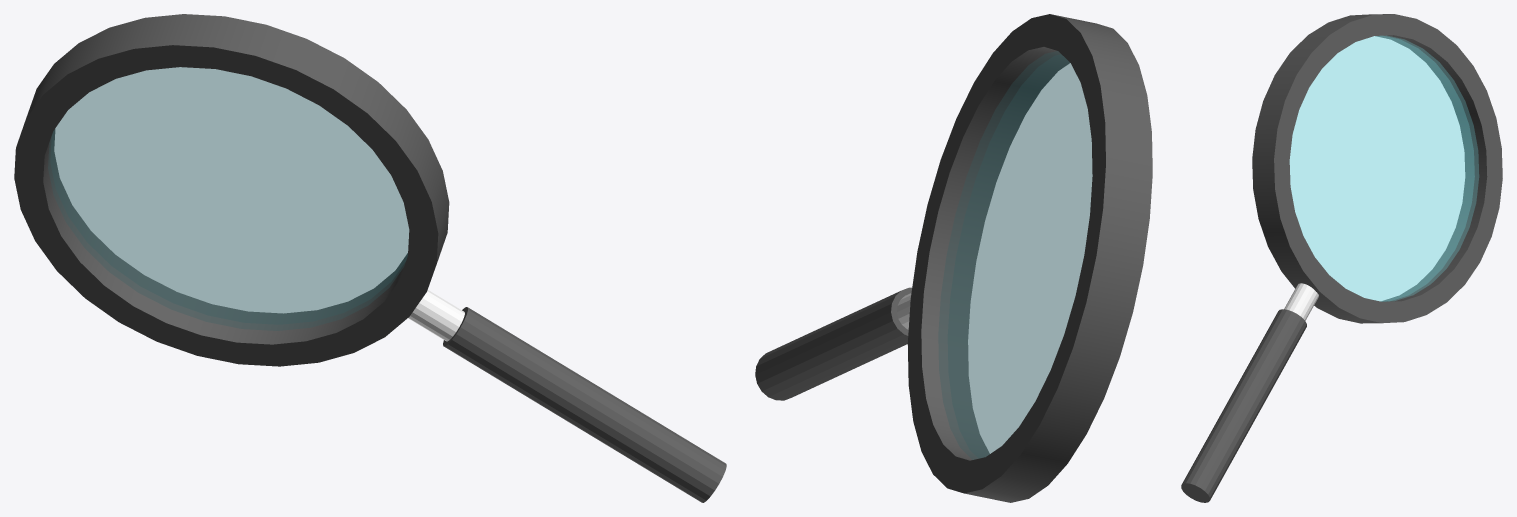
The picture shows the model from 3 angles, left to right: view 1: azimuth 30°, elevation 25°; view 2: azimuth 150°, elevation 25°; view 3: azimuth 270°, elevation 25°; orthographic projection. The views are drawn at different scales.
Visible parts, largest first — view 1: Cylinder008, Cylinder007, Cylinder005, Cylinder006; view 2: Cylinder007, Cylinder008, Cylinder005; view 3: Cylinder008, Cylinder007, Cylinder005, Cylinder006.
Part boxes in pixels (bbox=[...]): Cylinder008: bbox=[48, 67, 409, 330]; Cylinder007: bbox=[14, 14, 449, 366]; Cylinder005: bbox=[443, 307, 726, 502]; Cylinder006: bbox=[408, 290, 464, 341]; Cylinder007: bbox=[907, 14, 1152, 502]; Cylinder008: bbox=[938, 51, 1092, 459]; Cylinder005: bbox=[755, 287, 911, 400]; Cylinder008: bbox=[1289, 35, 1478, 301]; Cylinder007: bbox=[1252, 14, 1502, 323]; Cylinder005: bbox=[1181, 309, 1306, 502]; Cylinder006: bbox=[1284, 283, 1318, 320].
Size of the model in its own units: 329048 by 299580 by 248066.
